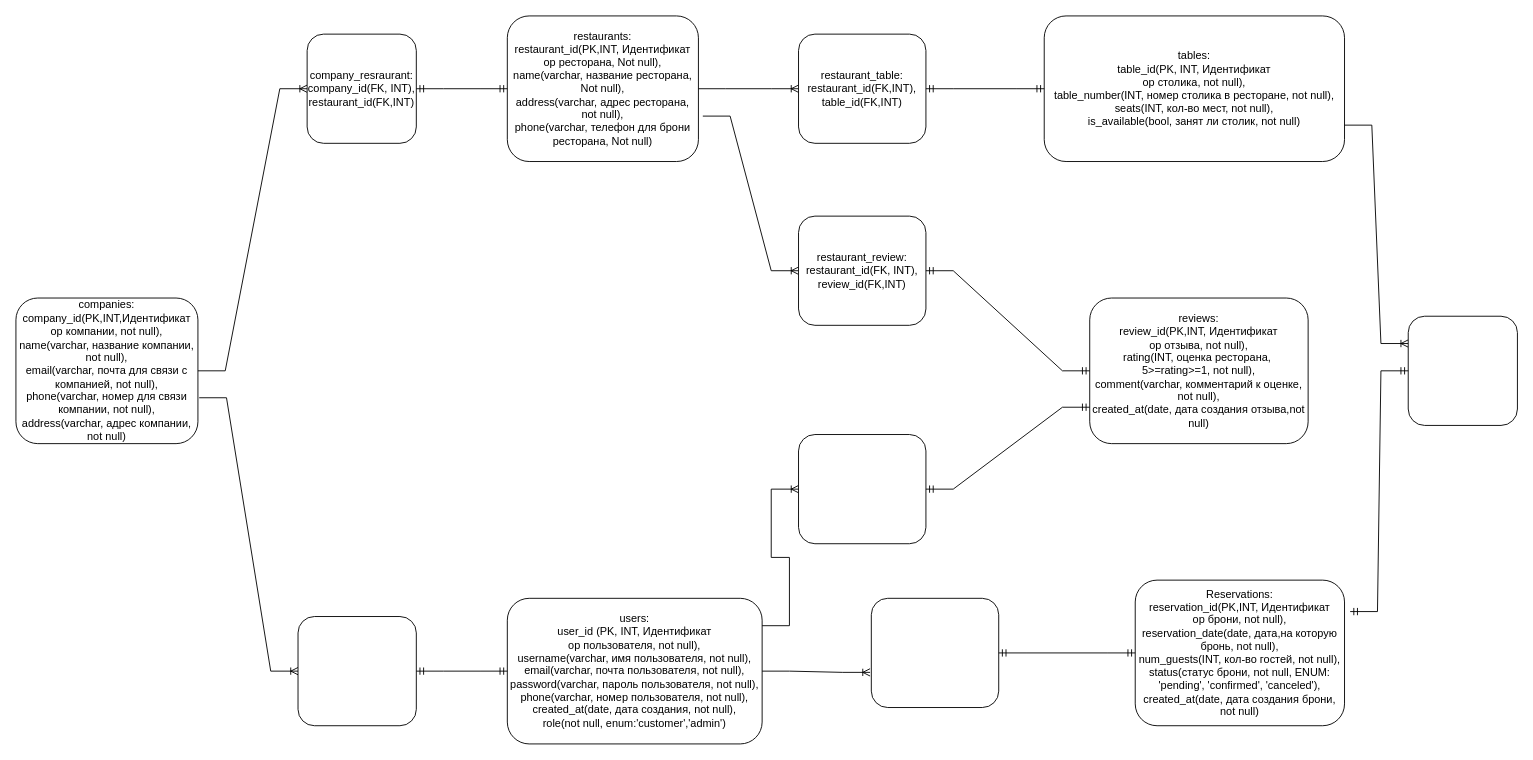
Some shapes in this 1533 by 760 pixel diagram are drawn without their labels. The shapes that lost their labels are listed below. From the top down, each one's centre as x and y in pixels, then its label:
At point 1462,370: "table_reservation: table_id(FK,INT), reservation_id(FK,INT)".
At point 862,489: "user_review user_id(FK,INT), review_id(FK,INT)".
At point 356,671: "company_user: company_id(FK, INT), user_id(FK,INT)".
At point 934,652: "user_reservation: user_id(FK,INT), reservetion_id(FK,INT)".
